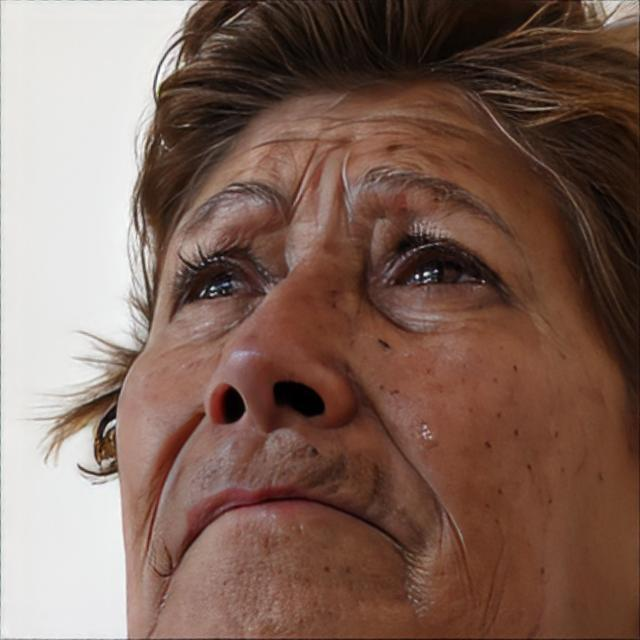sad: (115, 72, 594, 640)
